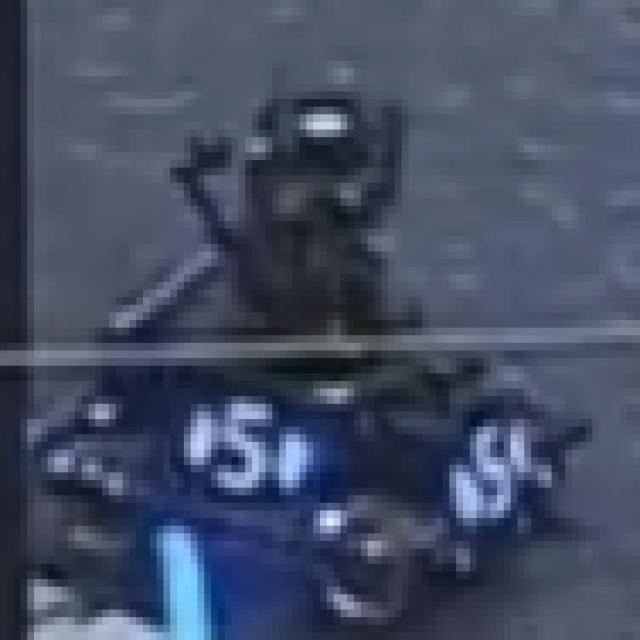B5: (177, 396, 300, 495), (449, 404, 531, 526)
